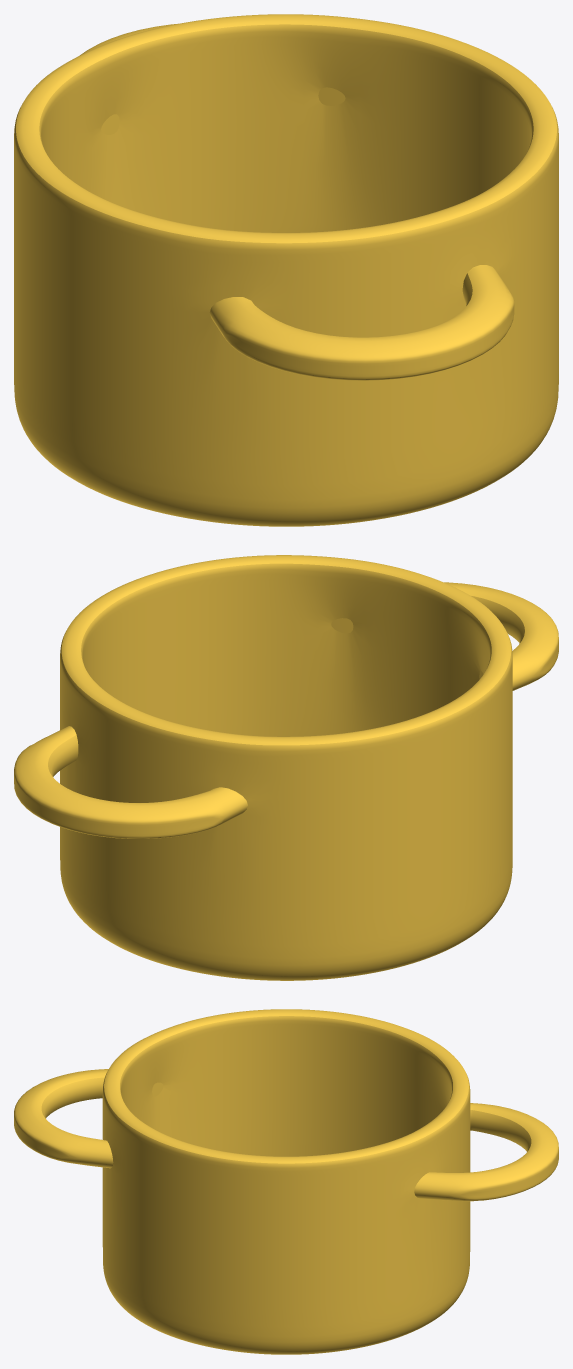
File: Pot.fbx
3 views of the same model, one above another, from view 1: azimuth 30°, elevation 25°; view 2: azimuth 150°, elevation 25°; view 3: azimuth 270°, elevation 25° (orthographic). The views are drawn at different scales.
Parts seen in each view (by area): view 1: Pot; view 2: Pot; view 3: Pot.
Part boxes in pixels (<box>): Pot: <box>14,14,558,526</box>; Pot: <box>14,555,558,980</box>; Pot: <box>14,1009,558,1354</box>.
Bounding box in the file's own units: 27.74 × 16.69 × 41.14.
